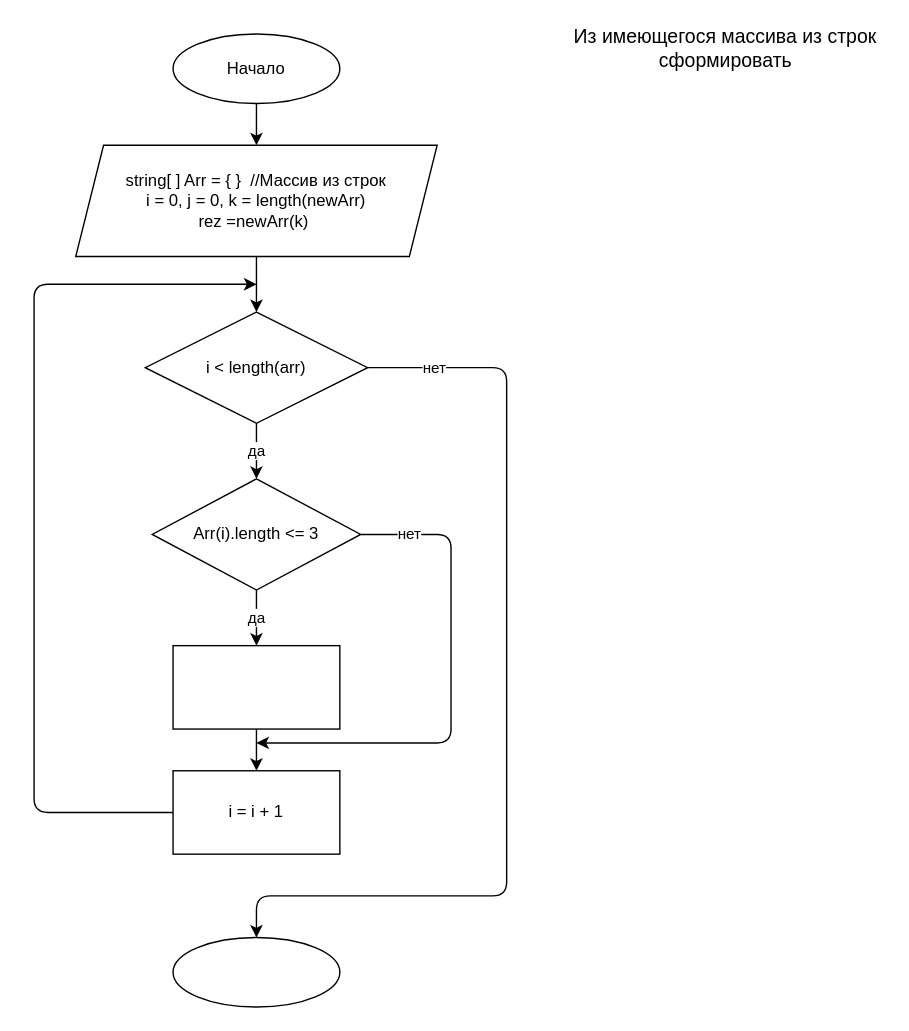
Image size: 909x1031. Some labels were removed from this diagram. Each missing label, with the centre of its shape:
newArr( j ) = Arr(i) j = j + 1: (256,686)
конец: (256,971)
